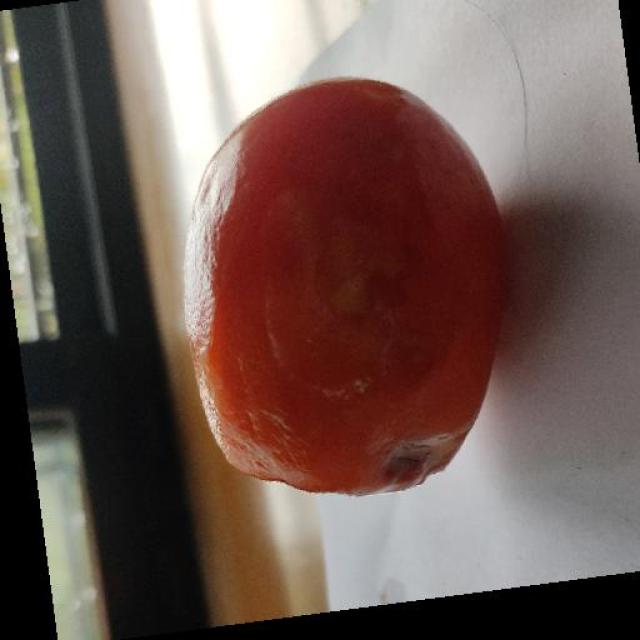Stale_tomato: (195, 78, 510, 504)
